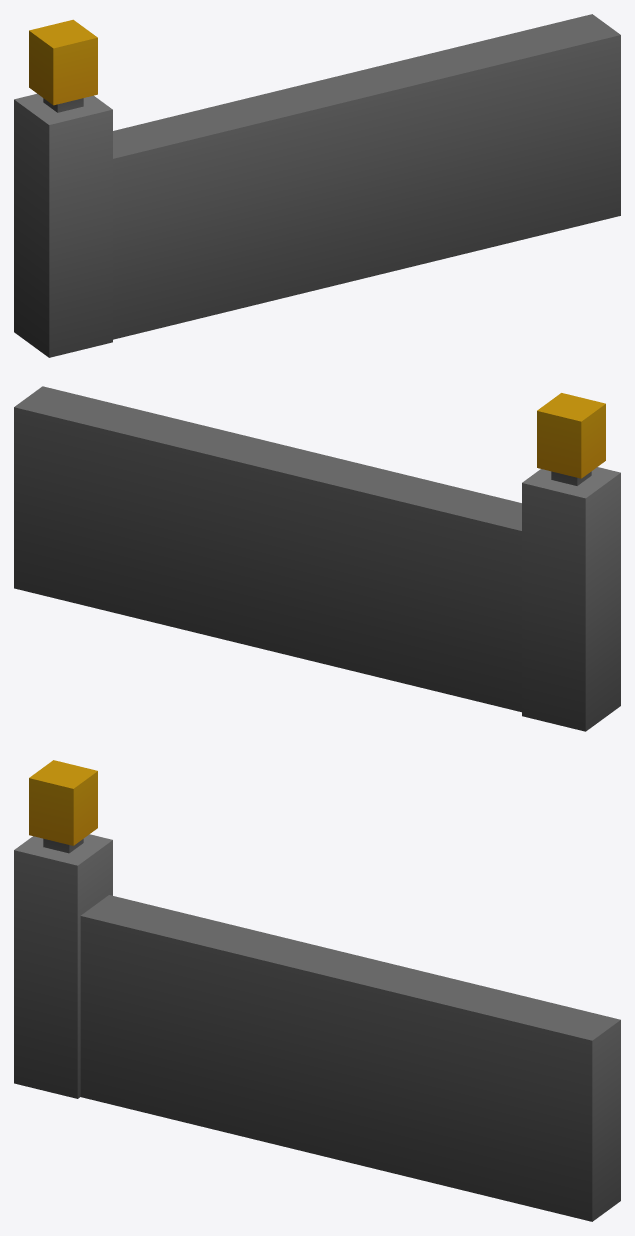
The model's file is fence gothic 2.fbx.
3 views of the same model, one above another, from view 1: azimuth 30°, elevation 25°; view 2: azimuth 150°, elevation 25°; view 3: azimuth 330°, elevation 25° (orthographic).
Parts seen in each view (by area): view 1: fence_gothic_2; view 2: fence_gothic_2; view 3: fence_gothic_2.
Part boxes in pixels (box(x1,y1,x2,y2)): fence_gothic_2: box(14, 14, 620, 357); fence_gothic_2: box(14, 386, 620, 731); fence_gothic_2: box(14, 760, 620, 1221).
Bounding box in the file's own units: 559 × 282 × 59.33.
1 material, 1 textured.
